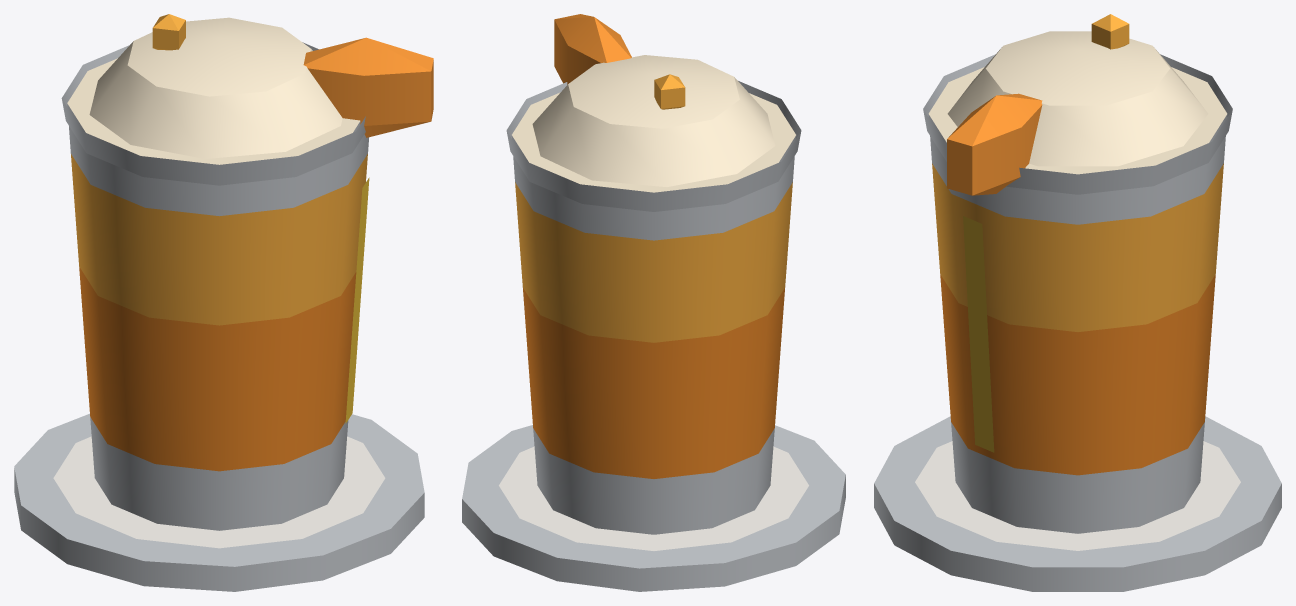
The model's file is pass_mango_lassi.glb.
3 renders of one model, left to right at view 1: azimuth 30°, elevation 25°; view 2: azimuth 150°, elevation 25°; view 3: azimuth 270°, elevation 25°, orthographic. The views are drawn at different scales.
Parts seen in each view (by area): view 1: pass_mango_lassi; view 2: pass_mango_lassi; view 3: pass_mango_lassi.
Boxes of the visible parts, x1,y1,x2,y2 form: pass_mango_lassi: (14, 14, 433, 591); pass_mango_lassi: (462, 14, 845, 591); pass_mango_lassi: (874, 14, 1281, 591).
Size of the model in its own units: 0.1462 by 0.194 by 0.15.
1 material, 1 textured.
